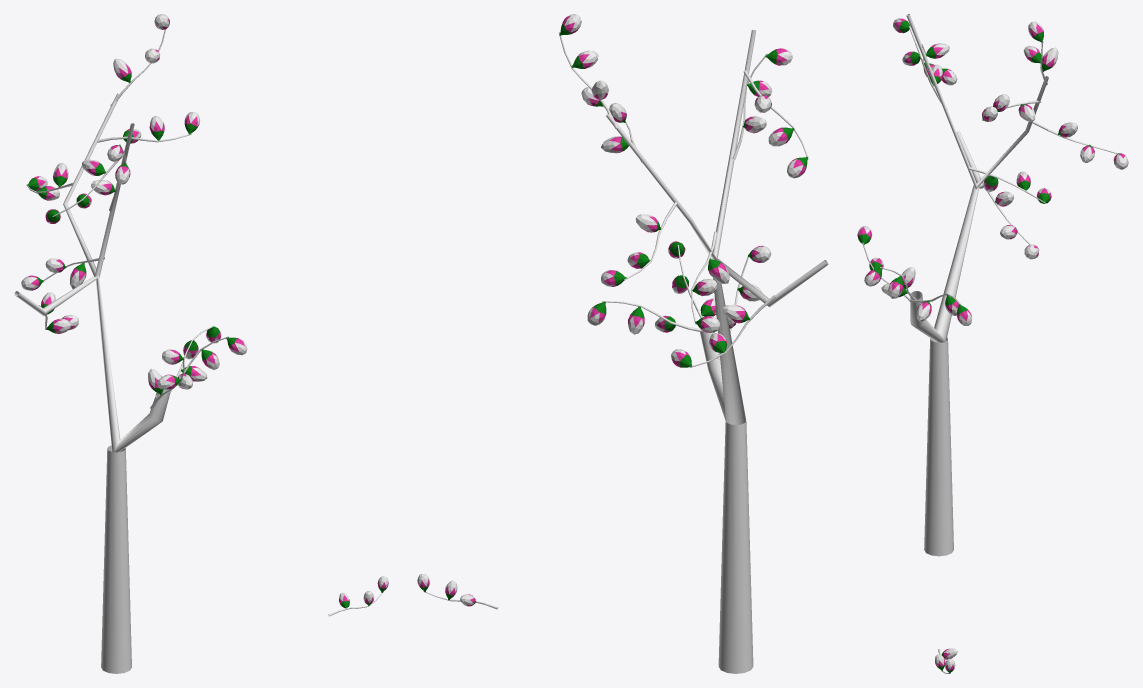
The model's file is ciliegio_secondo_stato.fbx.
3 views of the same model, side by side, from view 1: azimuth 30°, elevation 25°; view 2: azimuth 150°, elevation 25°; view 3: azimuth 270°, elevation 25° (orthographic). The views are drawn at different scales.
Parts seen in each view (by area): view 1: Vert.010, Vert.010|Vert.001|Dupli|7, Vert.010|Vert.001|Dupli|6, Vert.010|Vert.001|Dupli|2, Vert.010|Vert.001|Dupli|9, Vert.010|Vert.001|Dupli|1, Vert.010|Vert.001|Dupli|4, Vert.010|Vert.001|Dupli|5, Vert.010|Vert.001|Dupli|8, Vert.010|Vert.001|Dupli|3, Vert.010|Vert.001|Dupli|; view 2: Vert.010, Vert.010|Vert.001|Dupli|6, Vert.010|Vert.001|Dupli|, Vert.010|Vert.001|Dupli|3, Vert.010|Vert.001|Dupli|5, Vert.010|Vert.001|Dupli|8, Vert.010|Vert.001|Dupli|4, Vert.010|Vert.001|Dupli|9, Vert.010|Vert.001|Dupli|7, Vert.010|Vert.001|Dupli|1, Vert.010|Vert.001|Dupli|2, Vert.001; view 3: Vert.010, Vert.010|Vert.001|Dupli|9, Vert.010|Vert.001|Dupli|8, Vert.010|Vert.001|Dupli|3, Vert.010|Vert.001|Dupli|4, Vert.010|Vert.001|Dupli|6, Vert.010|Vert.001|Dupli|, Vert.010|Vert.001|Dupli|7, Vert.010|Vert.001|Dupli|1, Vert.010|Vert.001|Dupli|2, Vert.010|Vert.001|Dupli|5, Vert.001.
Boxes of the visible parts, bbox=[...] form: Vert.010: bbox=[14, 93, 170, 673]; Vert.010|Vert.001|Dupli|7: bbox=[97, 112, 200, 143]; Vert.010|Vert.001|Dupli|6: bbox=[21, 257, 104, 290]; Vert.010|Vert.001|Dupli|2: bbox=[148, 349, 184, 409]; Vert.010|Vert.001|Dupli|9: bbox=[110, 14, 169, 106]; Vert.010|Vert.001|Dupli|1: bbox=[155, 336, 247, 397]; Vert.010|Vert.001|Dupli|4: bbox=[91, 144, 130, 211]; Vert.010|Vert.001|Dupli|5: bbox=[45, 151, 124, 223]; Vert.010|Vert.001|Dupli|8: bbox=[26, 163, 72, 200]; Vert.010|Vert.001|Dupli|3: bbox=[170, 325, 221, 391]; Vert.010|Vert.001|Dupli|: bbox=[39, 292, 78, 333]; Vert.010: bbox=[606, 29, 828, 673]; Vert.010|Vert.001|Dupli|6: bbox=[691, 231, 729, 332]; Vert.010|Vert.001|Dupli|: bbox=[671, 295, 775, 367]; Vert.010|Vert.001|Dupli|3: bbox=[587, 301, 702, 334]; Vert.010|Vert.001|Dupli|5: bbox=[743, 70, 808, 178]; Vert.010|Vert.001|Dupli|8: bbox=[601, 202, 677, 286]; Vert.010|Vert.001|Dupli|4: bbox=[732, 48, 792, 159]; Vert.010|Vert.001|Dupli|9: bbox=[559, 14, 617, 128]; Vert.010|Vert.001|Dupli|7: bbox=[581, 87, 642, 163]; Vert.010|Vert.001|Dupli|1: bbox=[668, 241, 716, 317]; Vert.010|Vert.001|Dupli|2: bbox=[717, 245, 771, 359]; Vert.001: bbox=[417, 574, 498, 609]; Vert.010: bbox=[906, 14, 1048, 556]; Vert.010|Vert.001|Dupli|9: bbox=[1023, 21, 1058, 85]; Vert.010|Vert.001|Dupli|8: bbox=[1032, 121, 1128, 169]; Vert.010|Vert.001|Dupli|3: bbox=[910, 293, 972, 325]; Vert.010|Vert.001|Dupli|4: bbox=[893, 18, 947, 109]; Vert.010|Vert.001|Dupli|6: bbox=[968, 167, 1051, 203]; Vert.010|Vert.001|Dupli|: bbox=[979, 176, 1038, 259]; Vert.010|Vert.001|Dupli|7: bbox=[982, 94, 1041, 121]; Vert.010|Vert.001|Dupli|1: bbox=[864, 267, 916, 299]; Vert.010|Vert.001|Dupli|2: bbox=[857, 226, 915, 301]; Vert.010|Vert.001|Dupli|5: bbox=[922, 43, 957, 85]; Vert.001: bbox=[935, 648, 957, 673].
Size of the model in its own units: 446 by 688 by 294.
